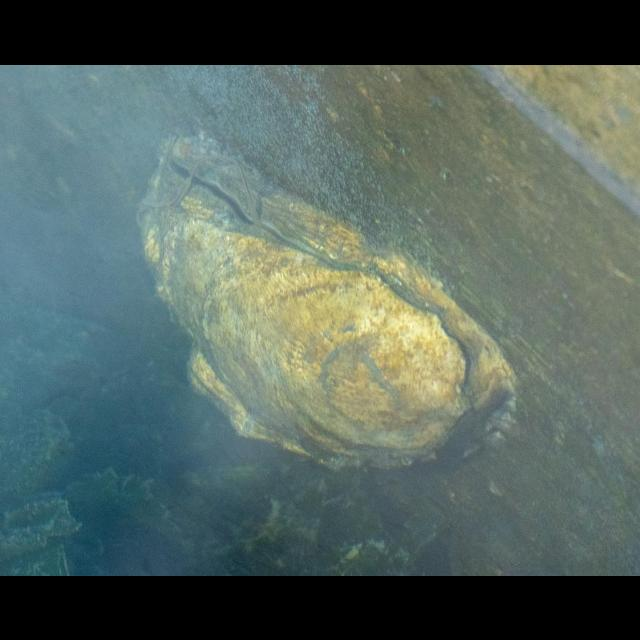Oyster-Open: (139, 130, 516, 468)
